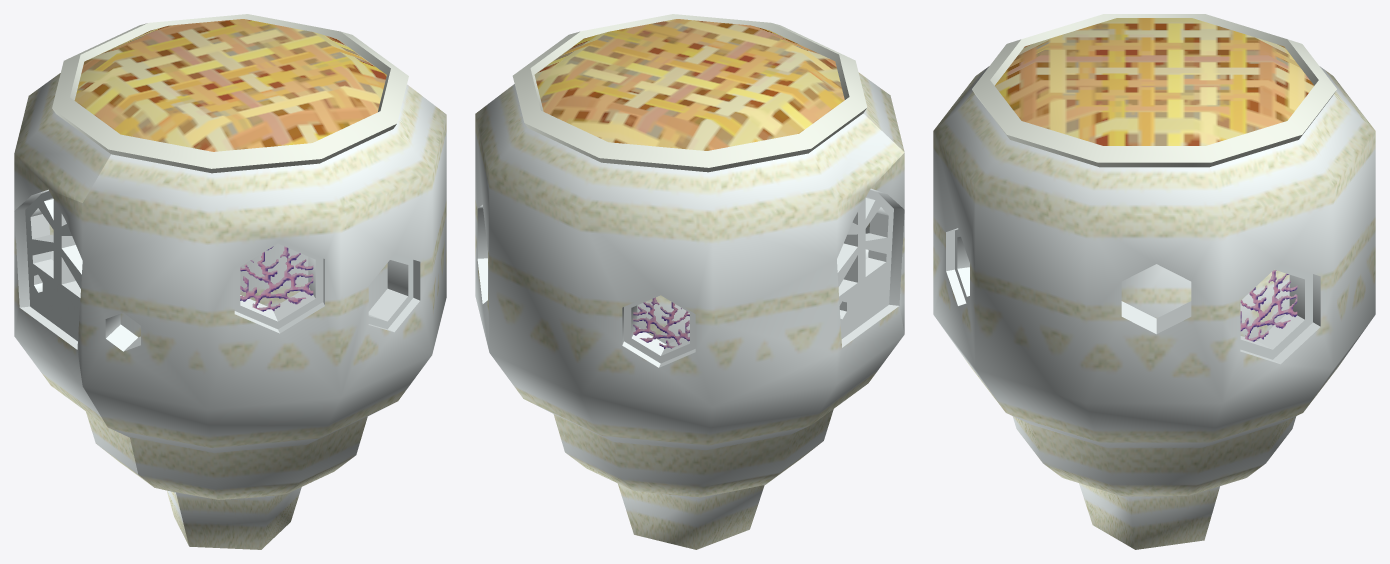
Rendered from WaterPlatformBounce.obj.
3 views of the same model, side by side, from view 1: azimuth 30°, elevation 25°; view 2: azimuth 150°, elevation 25°; view 3: azimuth 270°, elevation 25° (orthographic).
Size of the model in its own units: 60.18 by 72.18 by 63.28.
3 materials, 3 textured.
